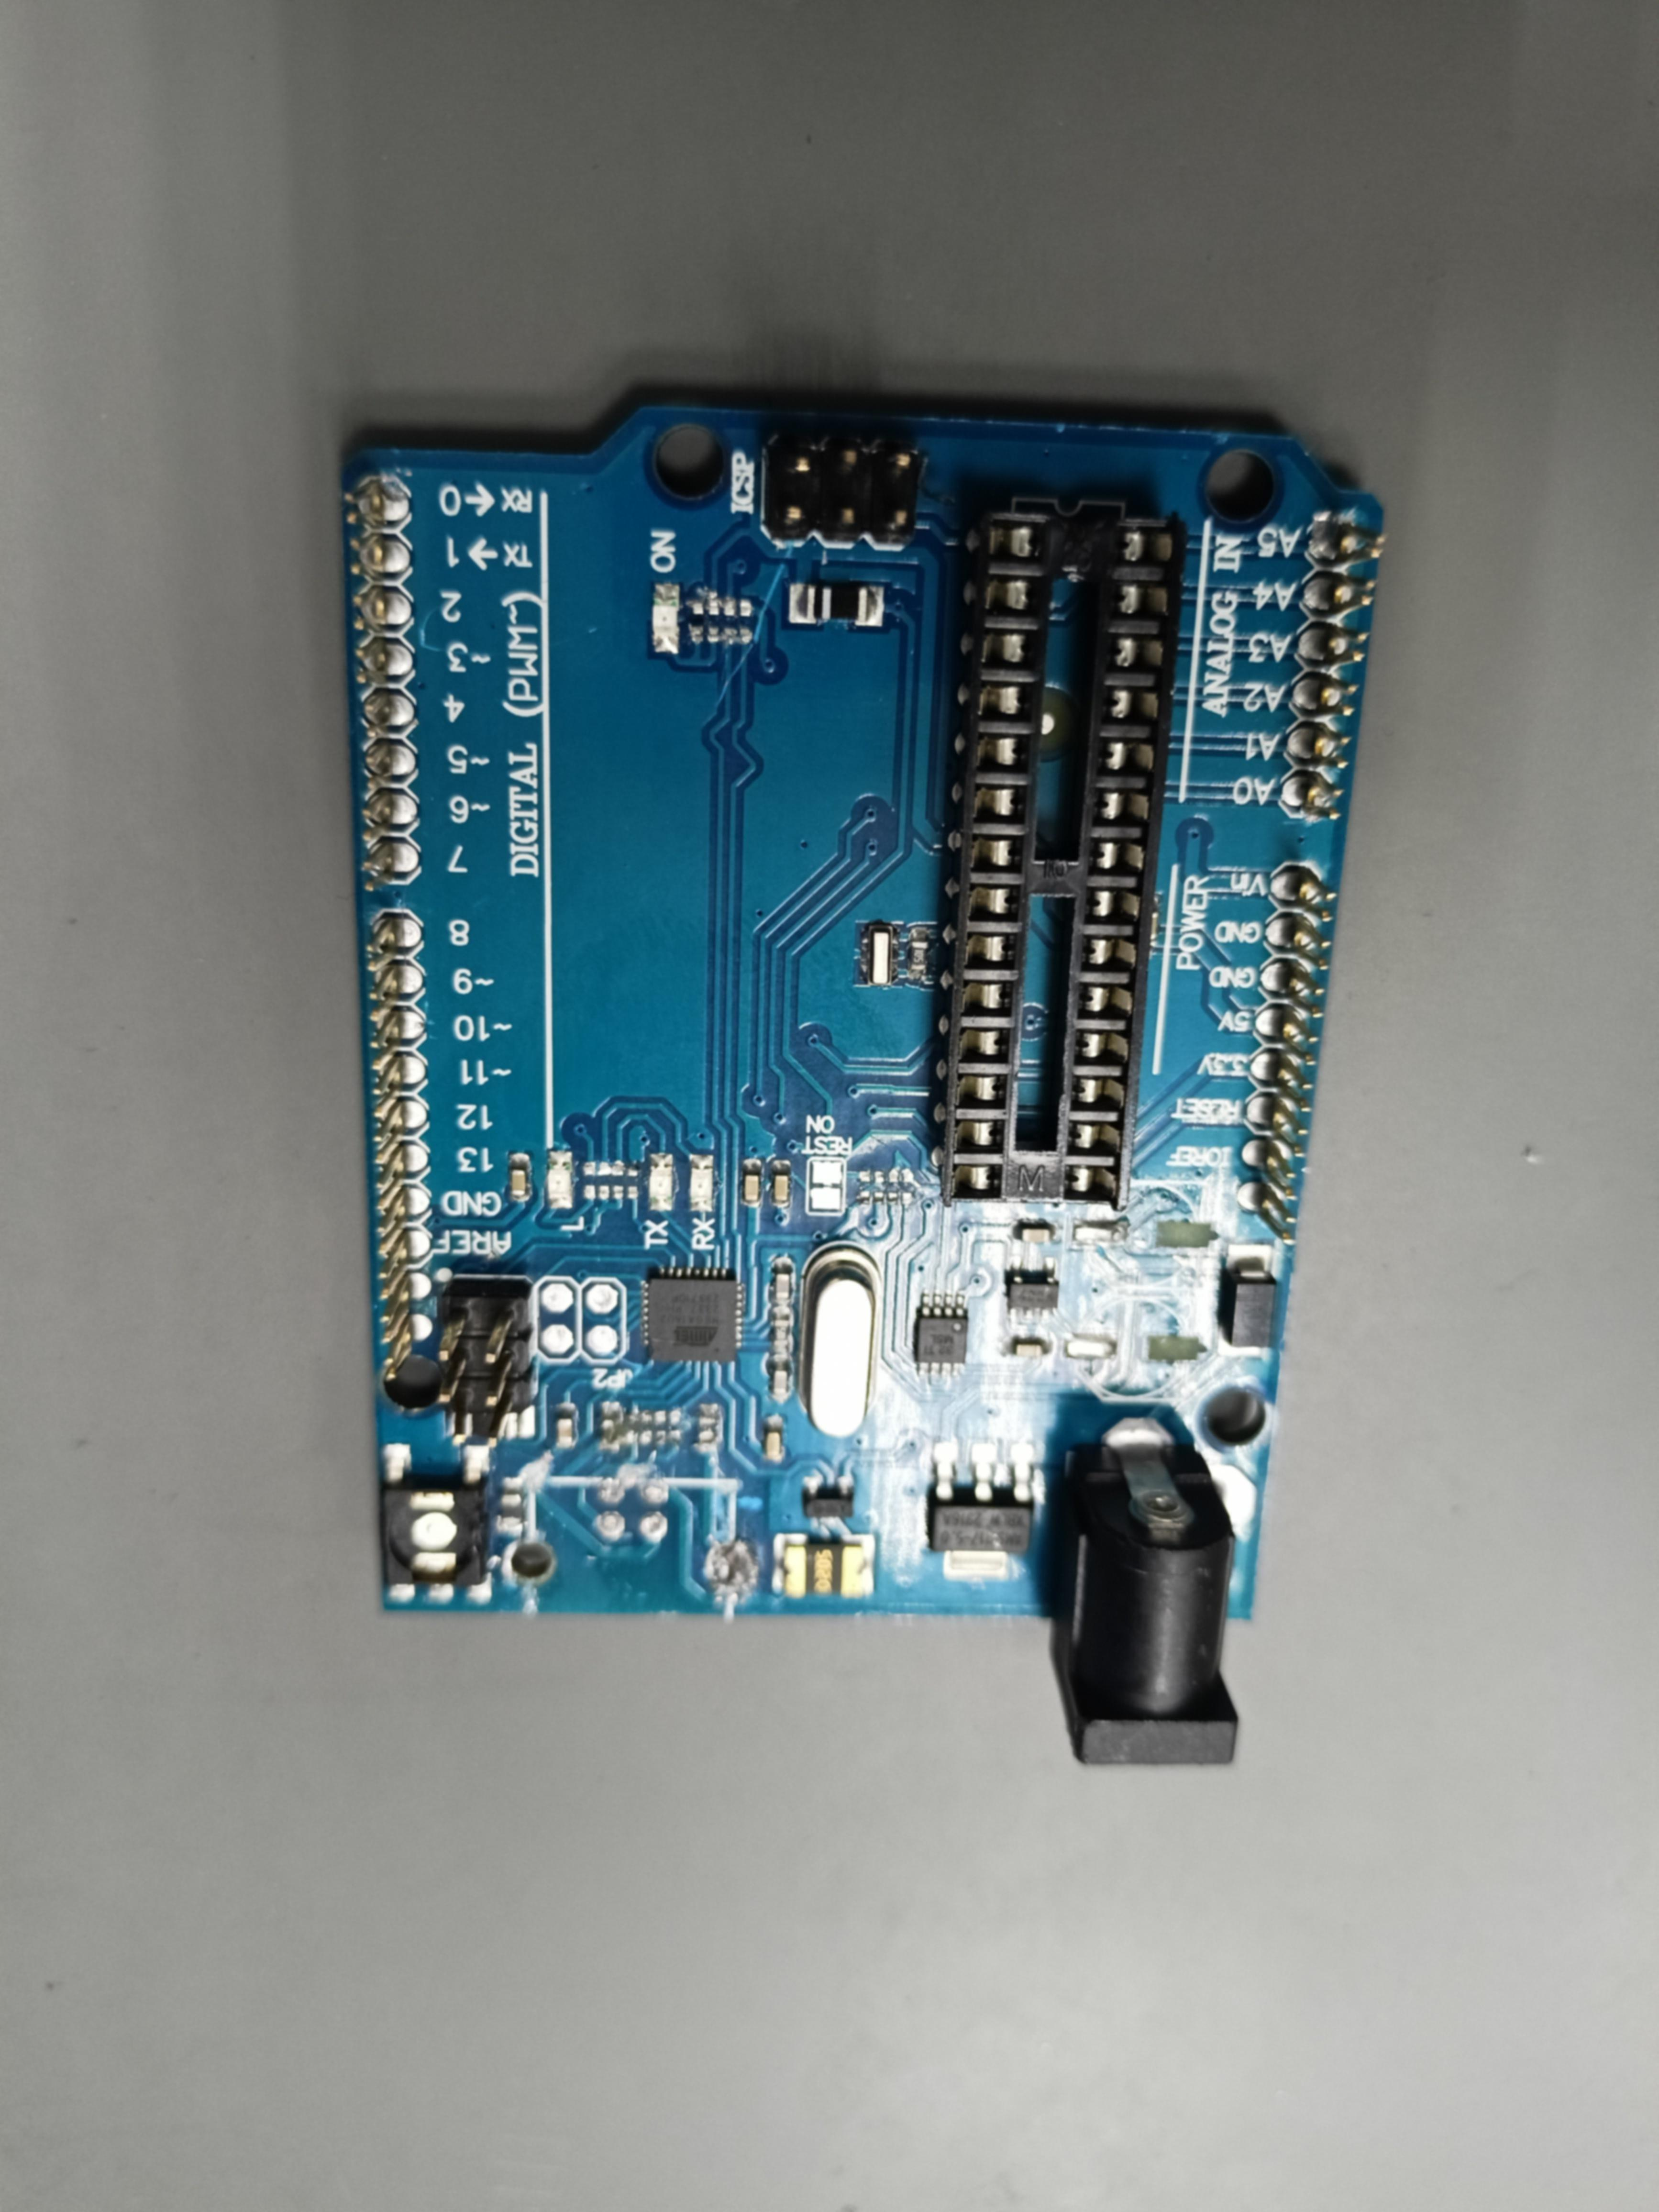Arduino board: (338, 402, 1387, 1763)
